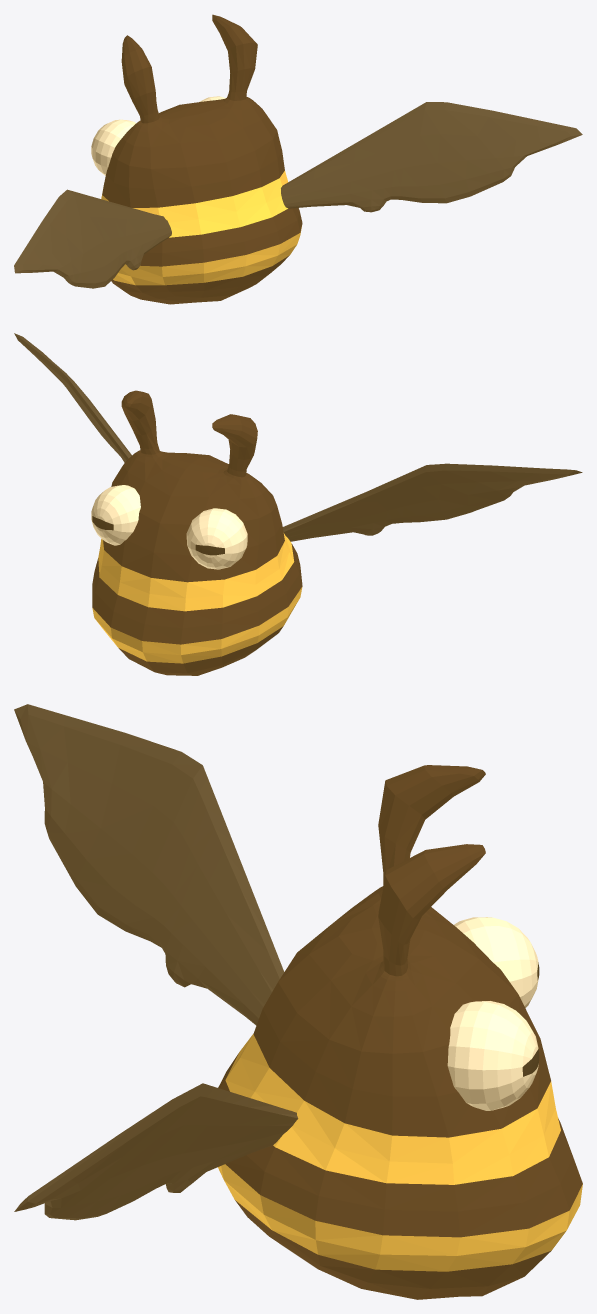
Rendered from beetle.glb.
The picture shows the model from 3 angles, top to bottom: view 1: azimuth 30°, elevation 25°; view 2: azimuth 150°, elevation 25°; view 3: azimuth 270°, elevation 25°; orthographic projection. The views are drawn at different scales.
Visible parts, largest first — view 1: beetle_body; view 2: beetle_body; view 3: beetle_body.
Boxes of the visible parts, left/top/right/bottom form: beetle_body: left=14, top=14, right=582, bottom=304; beetle_body: left=14, top=333, right=582, bottom=675; beetle_body: left=14, top=704, right=582, bottom=1299.
Bounding box in the file's own units: 1.83 × 0.8 × 0.8734.
Materials: 1 (1 with a texture image).
